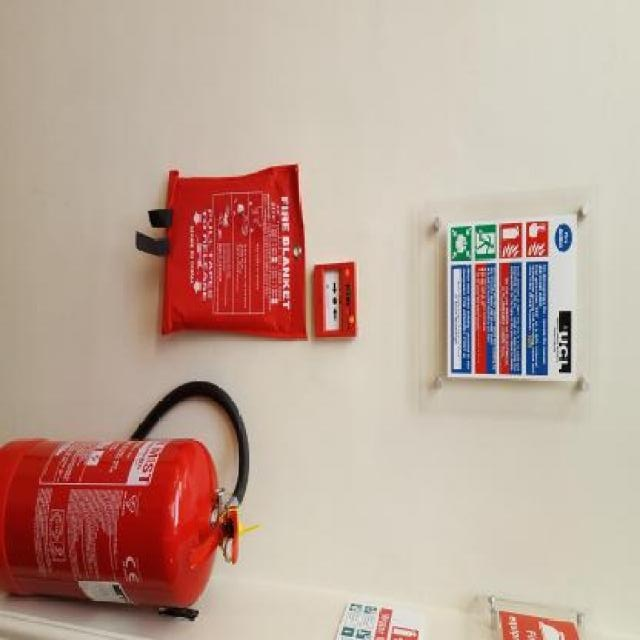fire extinguisher: (0, 380, 251, 609)
